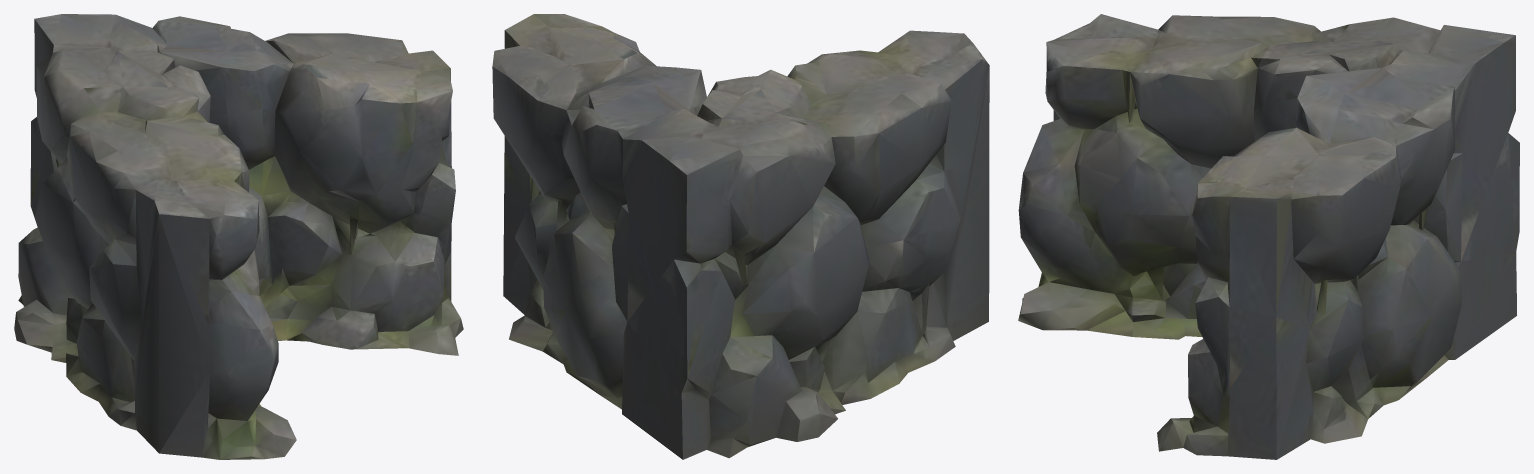
File: cueva_esquina_int_1500.glb
3 views of the same model, side by side, from view 1: azimuth 30°, elevation 25°; view 2: azimuth 150°, elevation 25°; view 3: azimuth 270°, elevation 25° (orthographic). The views are drawn at different scales.
Parts seen in each view (by area): view 1: cueva_esquina_int_malla; view 2: cueva_esquina_int_malla; view 3: cueva_esquina_int_malla.
Part boxes in pixels (<box>): cueva_esquina_int_malla: <box>14,14,463,459</box>; cueva_esquina_int_malla: <box>492,14,989,459</box>; cueva_esquina_int_malla: <box>1018,14,1519,459</box>.
Bounding box in the file's own units: 0.4273 × 0.3086 × 0.4798.
Materials: 1 (1 with a texture image).
